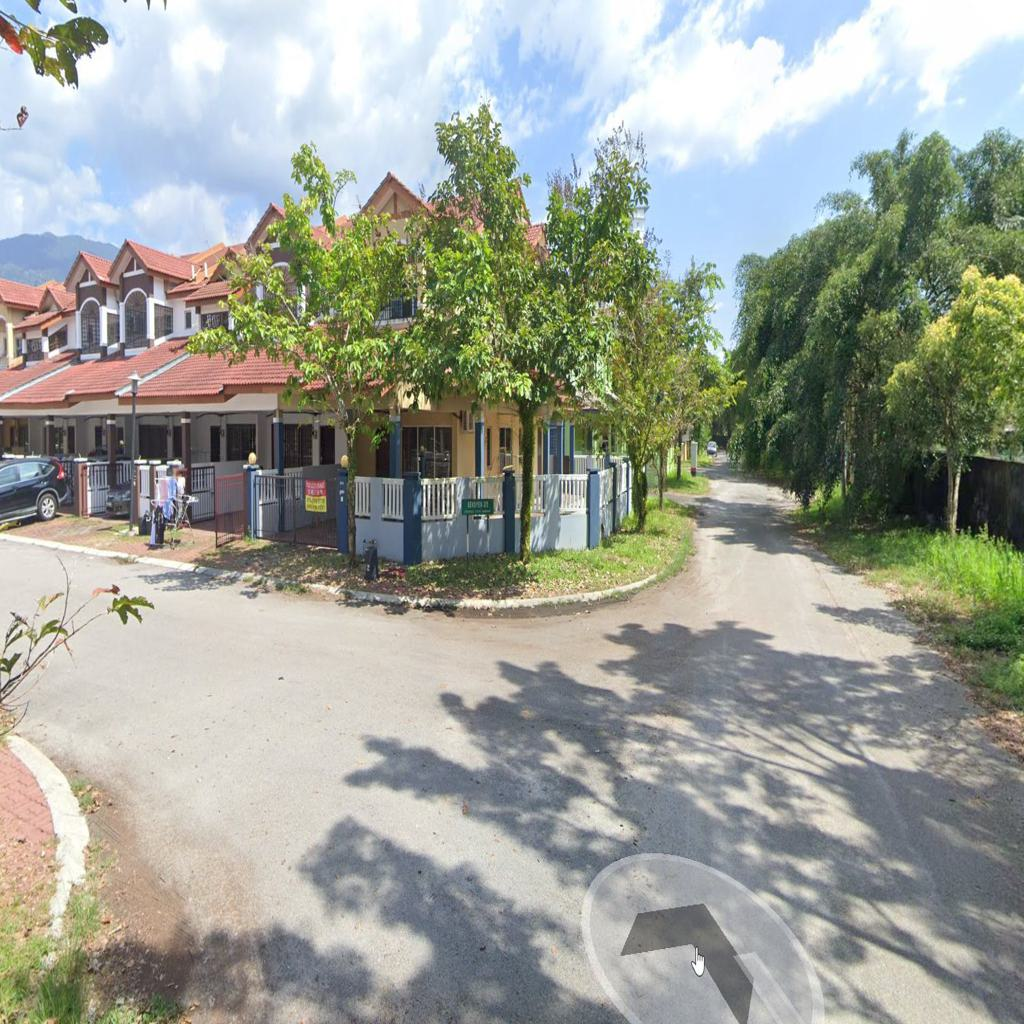Junction: (5, 495, 595, 944)
